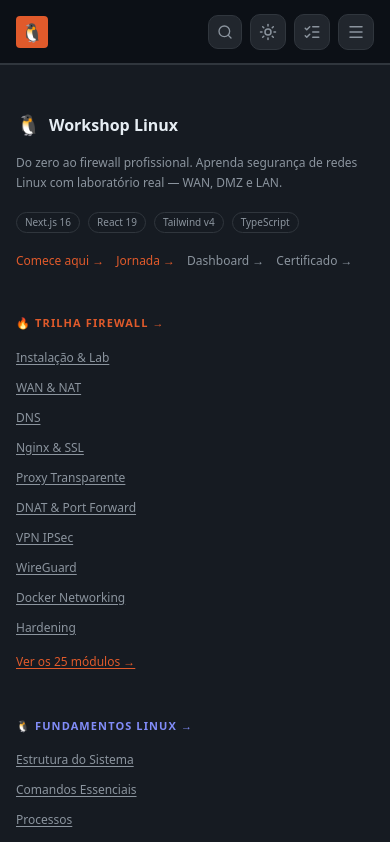
Scenario: ClientLayout › botão de menu mobile alterna aria-expanded
The image size is (390, 842).
What coordinates should you click on to do the following:
click the button named "abrir menu"
I would click on:
 (356, 32)
Its box is [338,14,374,50].
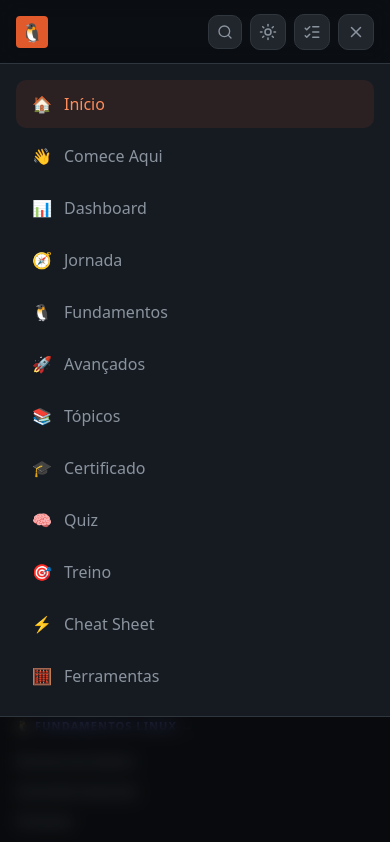
Now the 2nd button named "fechar menu" is expanded, box [338,14,374,50]
